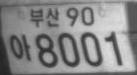0: (80, 32, 104, 67), (59, 32, 80, 68), (81, 6, 95, 27)
1: (105, 31, 125, 66)
8: (35, 33, 58, 67)
9: (65, 6, 79, 27)
부산_H: (28, 7, 62, 27)
아: (9, 32, 31, 60)
